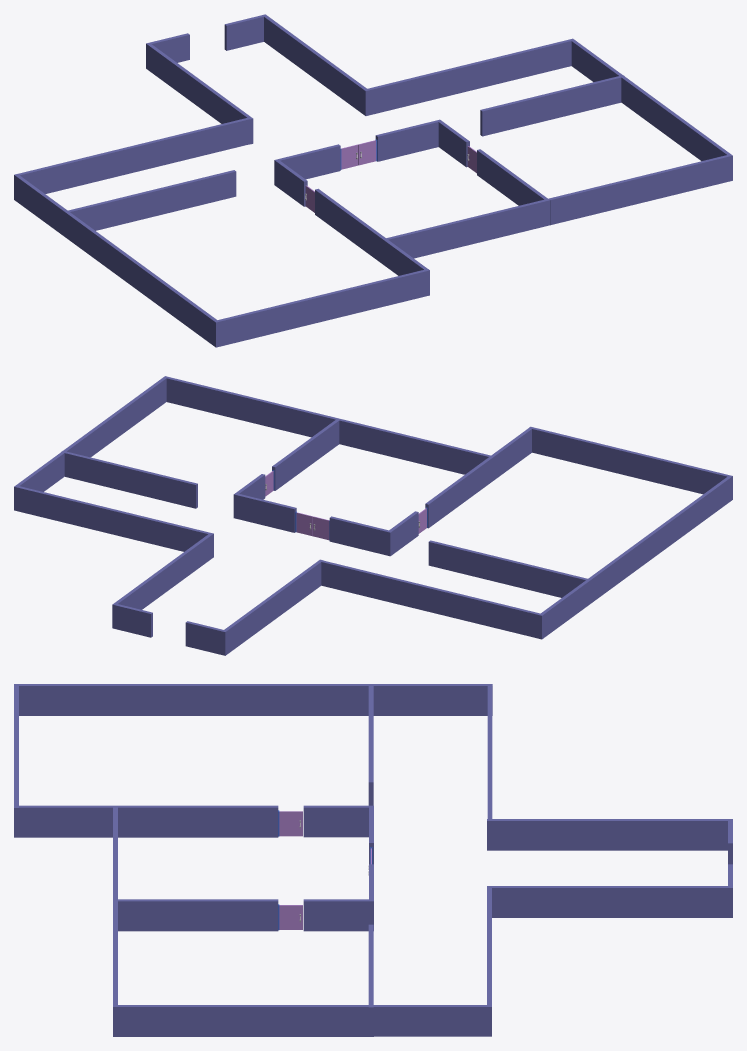
File: allWalls.fbx
3 views of the same model, one above another, from view 1: azimuth 30°, elevation 25°; view 2: azimuth 150°, elevation 25°; view 3: azimuth 270°, elevation 25° (orthographic). The views are drawn at different scales.
Parts seen in each view (by area): view 1: Wall_1, Wall, Wall_1__7_, Wall_1__1_, Wall_1__1__1, Wall_1__3__1, Wall_1__4__1, Wall_1__4__2, Wall_1__2_, Wall_1__8_, Wall_1__3_, Wall_1__6_ (+4 smaller); view 2: Wall_1, Wall, Wall_1__7_, Wall_1__1_, Wall_1__1__1, Wall_1__3__1, Wall_1__4__1, Wall_1__4__2, Wall_1__8_, Wall_1__2_, Wall_1__3_, Wall_1__6_ (+4 smaller); view 3: Wall_1, Wall_1__3__1, Wall_1__2_, Wall, Wall_1__8_, Wall_1__3_, Wall_1__5_, Wall_1__6_, Wall_1__4_, Wall_1__7_, Wall_1__1_, Wall_1__4__1 (+3 smaller).
Part boxes in pixels (x1=…): Wall_1: x1=274, y1=119, x2=549, y2=275; Wall: x1=262, y1=14, x2=574, y2=115; Wall_1__7_: x1=14, y1=117, x2=251, y2=200; Wall_1__1_: x1=214, y1=269, x2=429, y2=347; Wall_1__1__1: x1=548, y1=154, x2=732, y2=225; Wall_1__3__1: x1=65, y1=211, x2=217, y2=345; Wall_1__4__1: x1=68, y1=170, x2=236, y2=230; Wall_1__4__2: x1=480, y1=76, x2=621, y2=136; Wall_1__2_: x1=620, y1=75, x2=732, y2=180; Wall_1__8_: x1=146, y1=43, x2=253, y2=144; Wall_1__3_: x1=477, y1=149, x2=549, y2=225; Wall_1__6_: x1=15, y1=174, x2=67, y2=236; Wall_1: x1=234, y1=418, x2=531, y2=556; Wall: x1=14, y1=485, x2=213, y2=622; Wall_1__7_: x1=320, y1=560, x2=543, y2=639; Wall_1__1_: x1=529, y1=426, x2=732, y2=500; Wall_1__1__1: x1=164, y1=376, x2=337, y2=437; Wall_1__3__1: x1=587, y1=475, x2=731, y2=603; Wall_1__4__1: x1=428, y1=540, x2=587, y2=597; Wall_1__4__2: x1=61, y1=451, x2=197, y2=508; Wall_1__8_: x1=222, y1=559, x2=322, y2=653; Wall_1__2_: x1=63, y1=376, x2=167, y2=457; Wall_1__3_: x1=272, y1=418, x2=339, y2=490; Wall_1__6_: x1=538, y1=580, x2=589, y2=639; Wall_1: x1=19, y1=805, x2=373, y2=930; Wall_1__3__1: x1=14, y1=684, x2=371, y2=715; Wall_1__2_: x1=113, y1=1005, x2=373, y2=1036; Wall: x1=487, y1=886, x2=727, y2=1004; Wall_1__8_: x1=487, y1=819, x2=732, y2=850; Wall_1__3_: x1=113, y1=899, x2=278, y2=931; Wall_1__5_: x1=368, y1=1005, x2=491, y2=1036; Wall_1__6_: x1=372, y1=684, x2=492, y2=715; Wall_1__4_: x1=303, y1=899, x2=373, y2=931; Wall_1__7_: x1=487, y1=684, x2=492, y2=818; Wall_1__1_: x1=14, y1=684, x2=18, y2=837; Wall_1__4__1: x1=368, y1=686, x2=373, y2=805.
Size of the model in its own units: 6211 by 266 by 5839.
2 materials, 1 textured.
